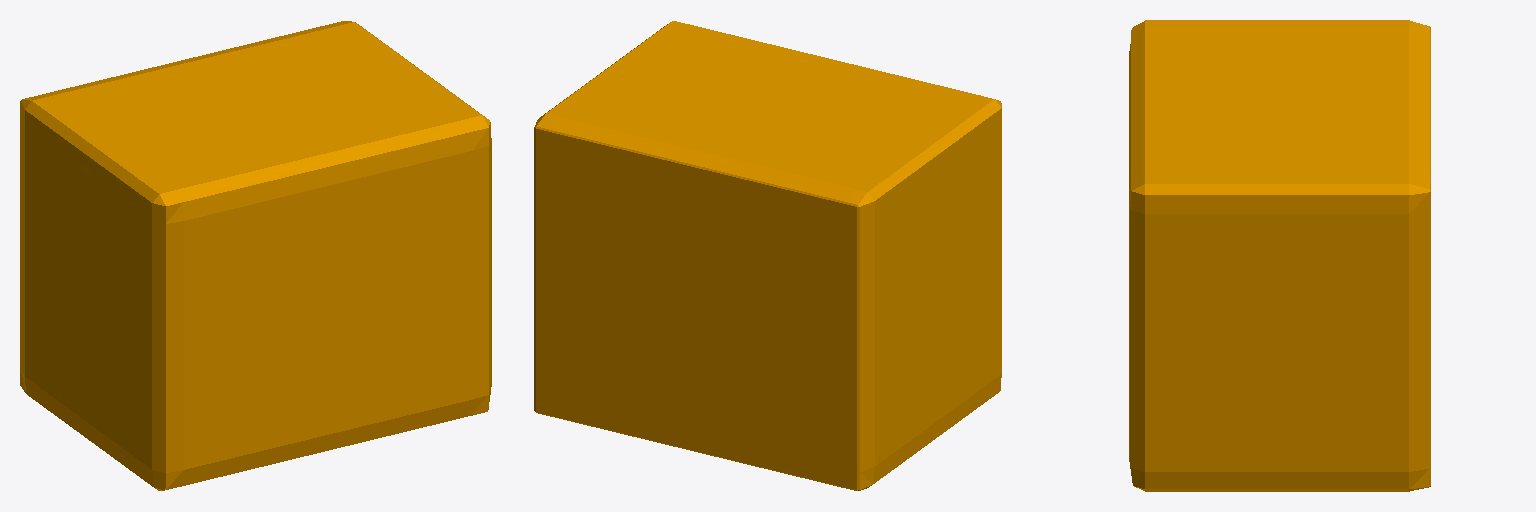
URDF robot description (cylinder_box_21):
<?xml version="1.0" encoding="utf-8"?>  <robot name="cylinder_box_21">   <link name="cylinder_box_21">     <visual>       <geometry>         <mesh filename="../meshes/box/box_21.stl" scale="1 1 1"/>       </geometry>     </visual>     <collision>       <geometry>         <mesh filename="../meshes/box/box_21.stl" scale="1 1 1"/>       </geometry>     </collision>     <inertial>        <origin         xyz="0 0 0"         rpy="0 0 0" />       <mass value="0.6155940878643426"/>       <origin rpy="0 0 0" xyz="0 0 0"/>       <inertia ixx="0.0006360893582451805" ixy="1.4902113702956287e-07" ixz="-5.8913745868256515e-09" iyy="0.0008621852720295811" iyz="1.7655450586673225e-07" izz="0.0007867647928598406"/>     </inertial>   </link>  </robot>

--- Facts derived from the render (not from the file) ---
3 views of the same robot in one strip: view 1: azimuth 30°, elevation 25°; view 2: azimuth 150°, elevation 25°; view 3: azimuth 270°, elevation 25° (orthographic).
Robot: cylinder_box_21 — 1 links, 0 joints (none); root link cylinder_box_21; default pose: all joints at 0.
Visible links, largest first — view 1: cylinder_box_21; view 2: cylinder_box_21; view 3: cylinder_box_21.
Boxes of the visible links, box(x1,y1,x2,y2) form: cylinder_box_21: box(20, 21, 491, 490); cylinder_box_21: box(534, 21, 1001, 490); cylinder_box_21: box(1129, 20, 1430, 491).
Bounding box of the posed robot: 0.0998 × 0.0743 × 0.0836 m (x, y, z).
Meshes: 1 distinct files referenced, 1 mesh visuals loaded (1 binary STL).